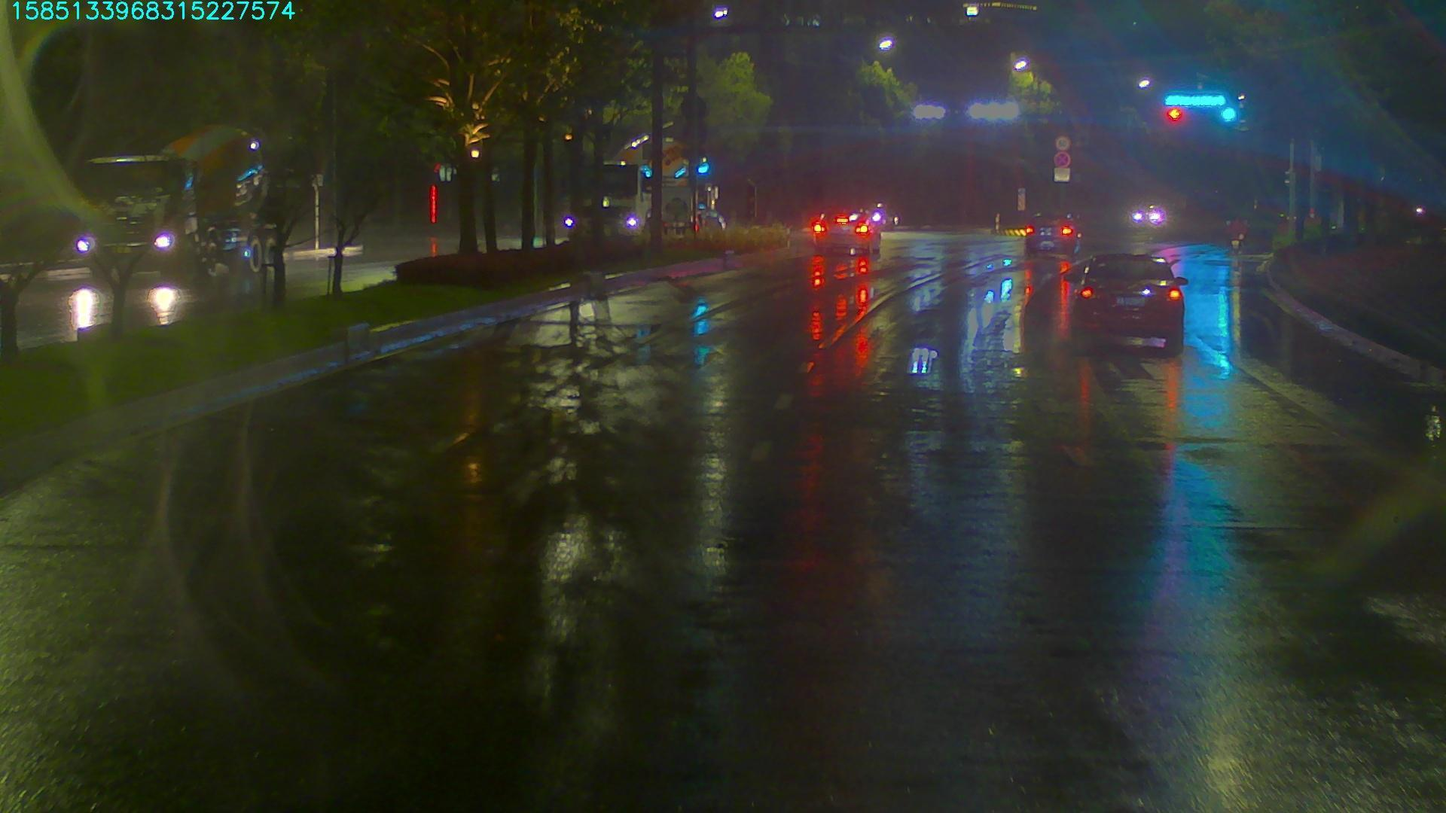green: (1219, 107, 1240, 120)
red: (1164, 104, 1181, 123)
wait_on: (1164, 89, 1231, 108)
